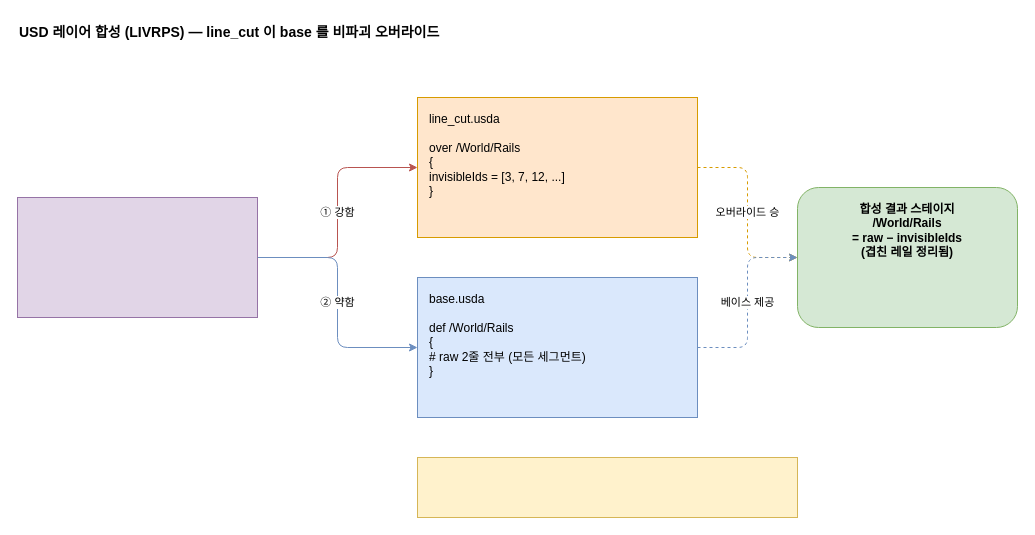
Some shapes in this 1035 by 535 pixel diagram are drawn without their labels. Each missing label, with the centre of its shape:
"out/composed.usda (root layer) subLayers = [ line_cut.usda, base.usda ]" belongs at point (137, 257).
"인덱스 정합: base / line_cut 모두 geometry.dual_rail_segments_tagged 공유 → 1:1" belongs at point (607, 487).
